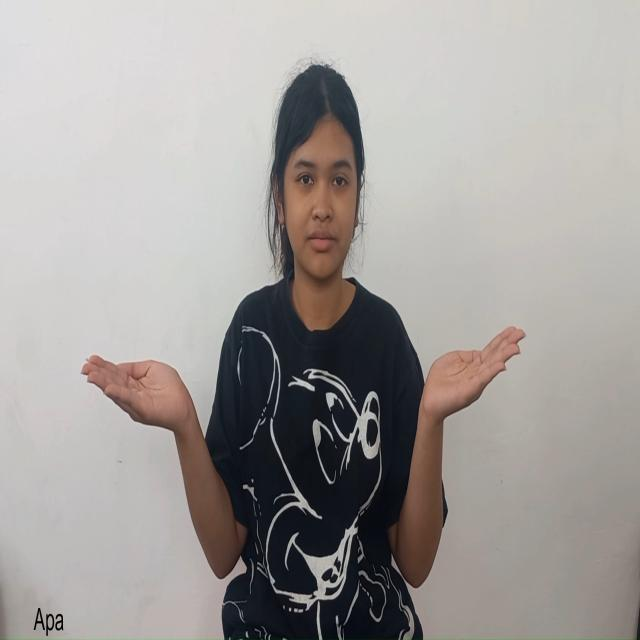Apa -BISINDO-: (77, 317, 534, 591)
